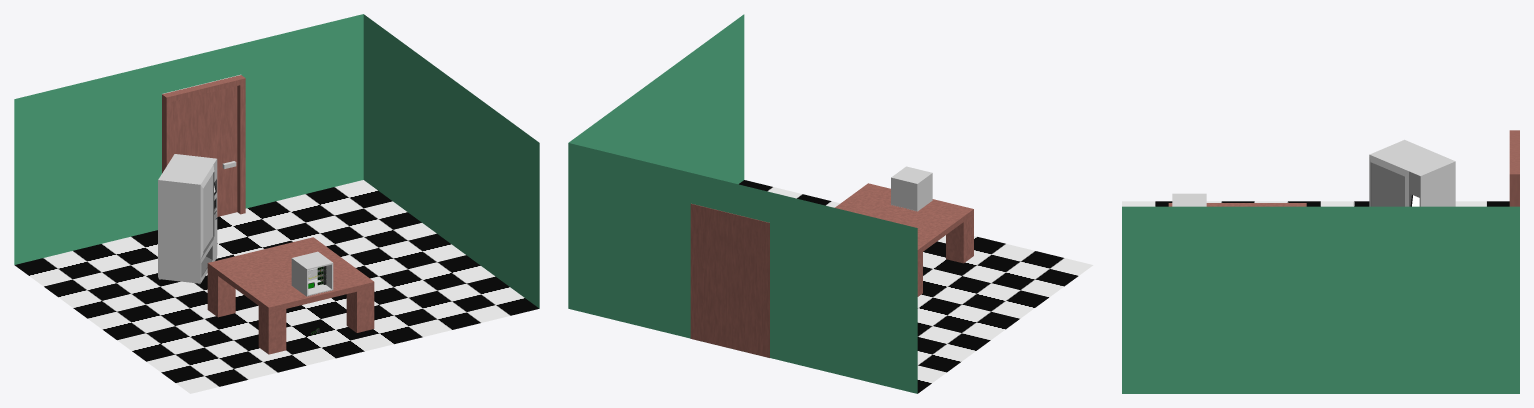
File: PcUndTischye.fbx
3 views of the same model, side by side, from view 1: azimuth 30°, elevation 25°; view 2: azimuth 150°, elevation 25°; view 3: azimuth 270°, elevation 25° (orthographic). The views are drawn at different scales.
Visible parts, largest first — view 1: Room, Door, Vending, Tisch Platte, Tisch Beine, Pc Body; view 2: Room, Door, Tisch Platte, Pc Body, Tisch Beine; view 3: Room, Vending, Door, Pc Body, Tisch Platte.
Part boxes in pixels (x1=…): Room: x1=14, y1=14, x2=539, y2=393; Door: x1=162, y1=75, x2=245, y2=216; Vending: x1=158, y1=154, x2=217, y2=284; Tisch Platte: x1=207, y1=237, x2=374, y2=312; Tisch Beine: x1=207, y1=269, x2=374, y2=354; Pc Body: x1=291, y1=251, x2=333, y2=296; Room: x1=568, y1=14, x2=1093, y2=393; Door: x1=690, y1=203, x2=769, y2=357; Tisch Platte: x1=835, y1=183, x2=973, y2=255; Pc Body: x1=891, y1=166, x2=932, y2=211; Tisch Beine: x1=917, y1=215, x2=973, y2=296; Room: x1=1122, y1=201, x2=1519, y2=393; Vending: x1=1369, y1=139, x2=1455, y2=206; Door: x1=1509, y1=130, x2=1519, y2=206; Pc Body: x1=1172, y1=193, x2=1206, y2=206; Tisch Platte: x1=1168, y1=203, x2=1306, y2=206.
Size of the model in its own units: 2644 by 1202 by 2308.
Materials: 39 (2 with a texture image).
